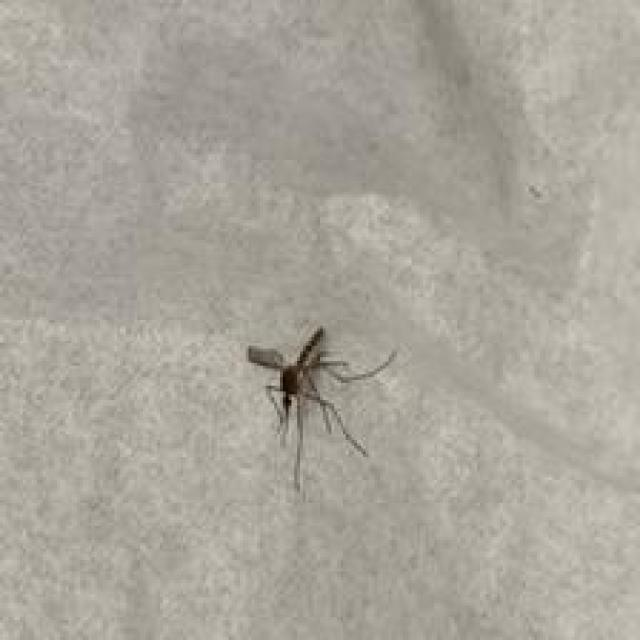Culex: (244, 324, 399, 493)
